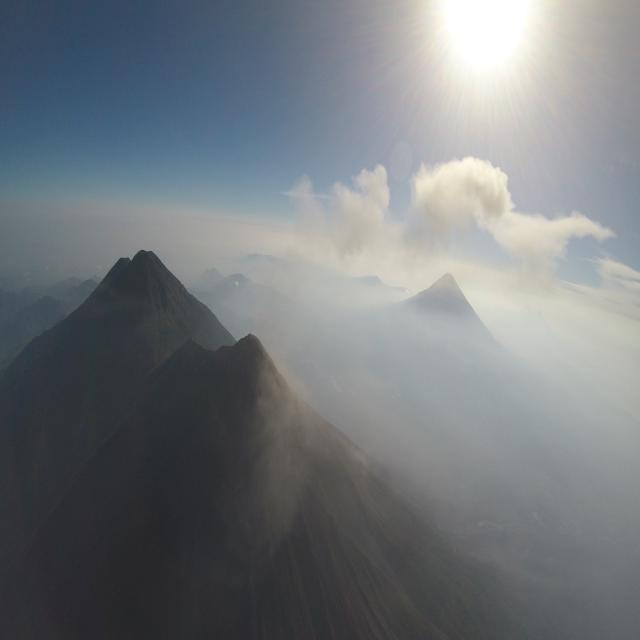Plume: (288, 161, 393, 265), (408, 152, 517, 235)
Summit: (208, 331, 276, 374)
